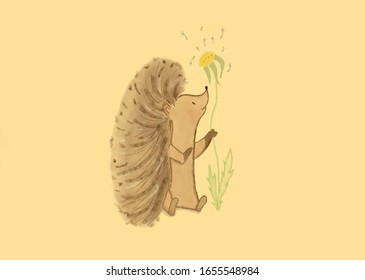animal: (110, 58, 207, 216)
flower: (205, 37, 243, 215)
